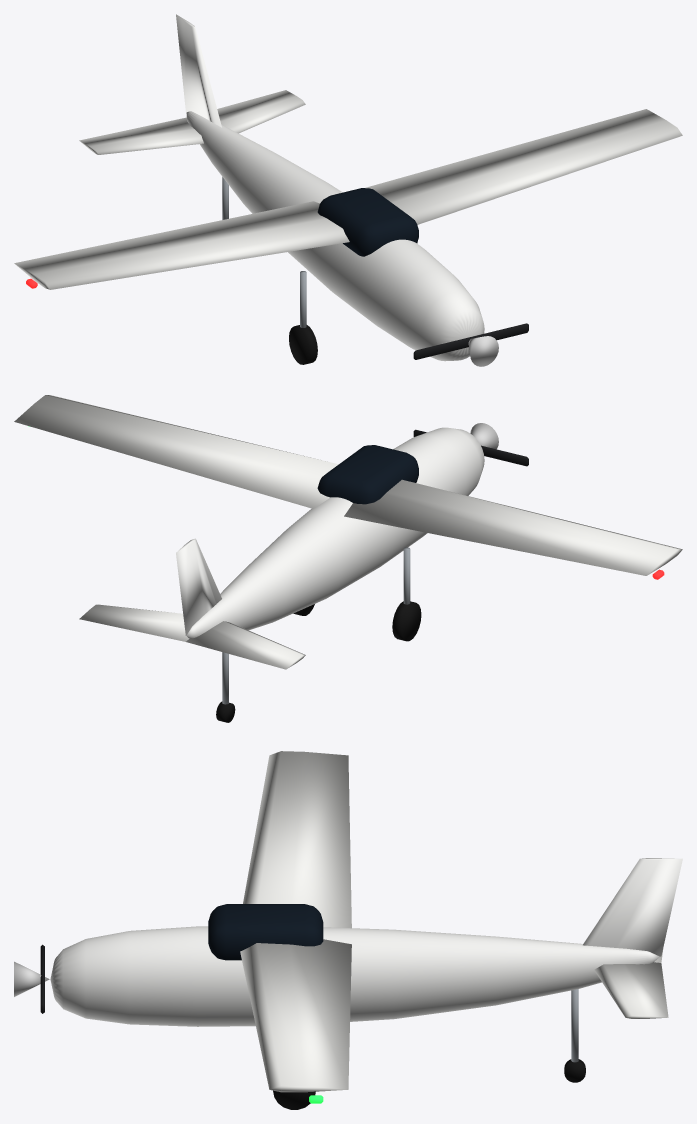
The picture shows the model from 3 angles, top to bottom: view 1: azimuth 30°, elevation 25°; view 2: azimuth 150°, elevation 25°; view 3: azimuth 270°, elevation 25°; orthographic projection. The views are drawn at different scales.
Parts seen in each view (by area): view 1: Wing, Fuselage, HStab, Canopy, Fin, Blade, Wheel-0.9-0.9, Spinner; view 2: Wing, Fuselage, HStab, Canopy, Fin, Wheel-0.9-0.9, Blade, Spinner; view 3: Fuselage, Wing, Fin, Canopy, HStab, Spinner, Wheel0.9-0.9, Leg03.0.
Part boxes in pixels (<box>): Wing: <box>14,109,682,289</box>; Fuselage: <box>186,111,484,361</box>; HStab: <box>79,90,305,154</box>; Canopy: <box>317,188,418,256</box>; Fin: <box>176,14,221,127</box>; Blade: <box>413,323,528,359</box>; Wheel-0.9-0.9: <box>289,325,317,364</box>; Spinner: <box>468,336,498,366</box>; Wing: <box>14,395,682,575</box>; Fuselage: <box>186,427,484,638</box>; HStab: <box>79,604,305,669</box>; Canopy: <box>317,445,418,504</box>; Fin: <box>176,538,221,635</box>; Wheel-0.9-0.9: <box>392,601,421,641</box>; Blade: <box>413,429,528,466</box>; Spinner: <box>470,423,498,449</box>; Fuselage: <box>50,926,659,1026</box>; Wing: <box>240,751,351,1092</box>; Fin: <box>583,858,682,956</box>; Canopy: <box>208,904,323,960</box>; HStab: <box>594,949,668,1018</box>; Spinner: <box>14,961,49,996</box>; Wheel0.9-0.9: <box>273,1090,315,1109</box>; Leg03.0: <box>571,989,578,1062</box>.
Size of the model in its own units: 11.02 by 3.4 by 9.3.
